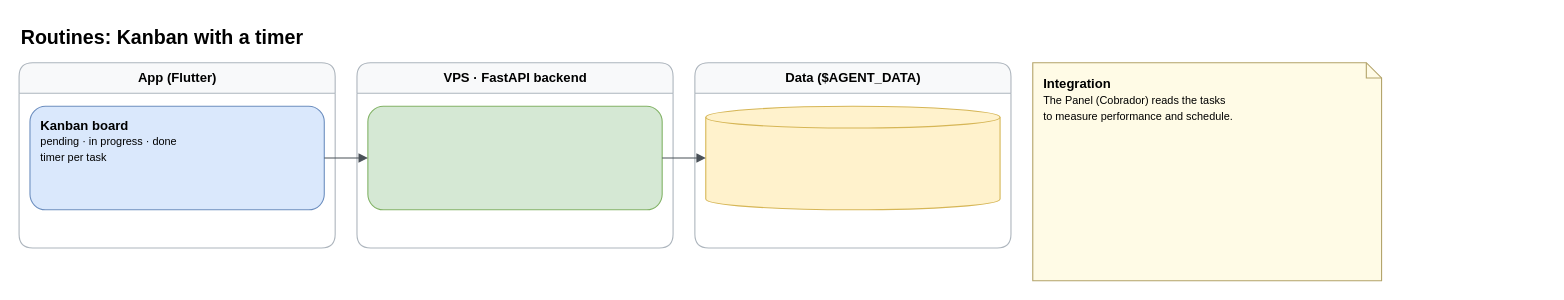
This 1564x300 diagram has some shape labels left out. The centre of each missing label's shape, as x and y in pixels:
/api/rotinas (board) order per column, time sessions: [514,157]
rotinas/tarefas.json sessions {inicio, fim} in ISO UTC: [852,157]
